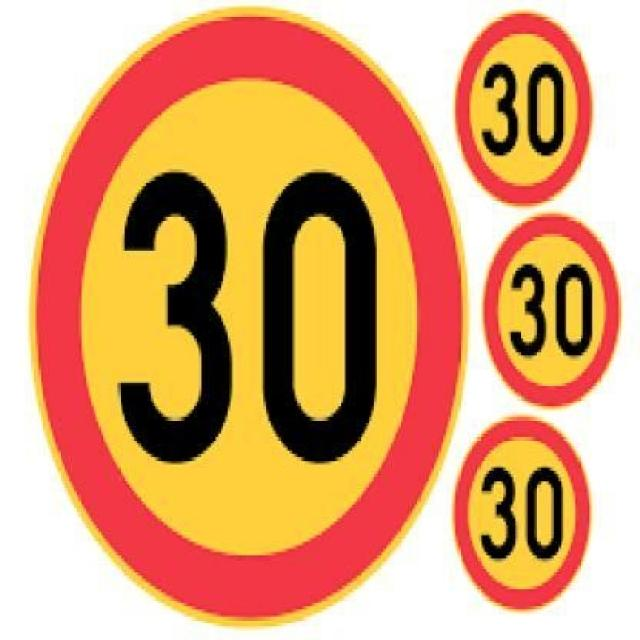forb_speed_over_30: (42, 15, 450, 617), (490, 216, 618, 405), (462, 13, 587, 201), (462, 422, 588, 607)
